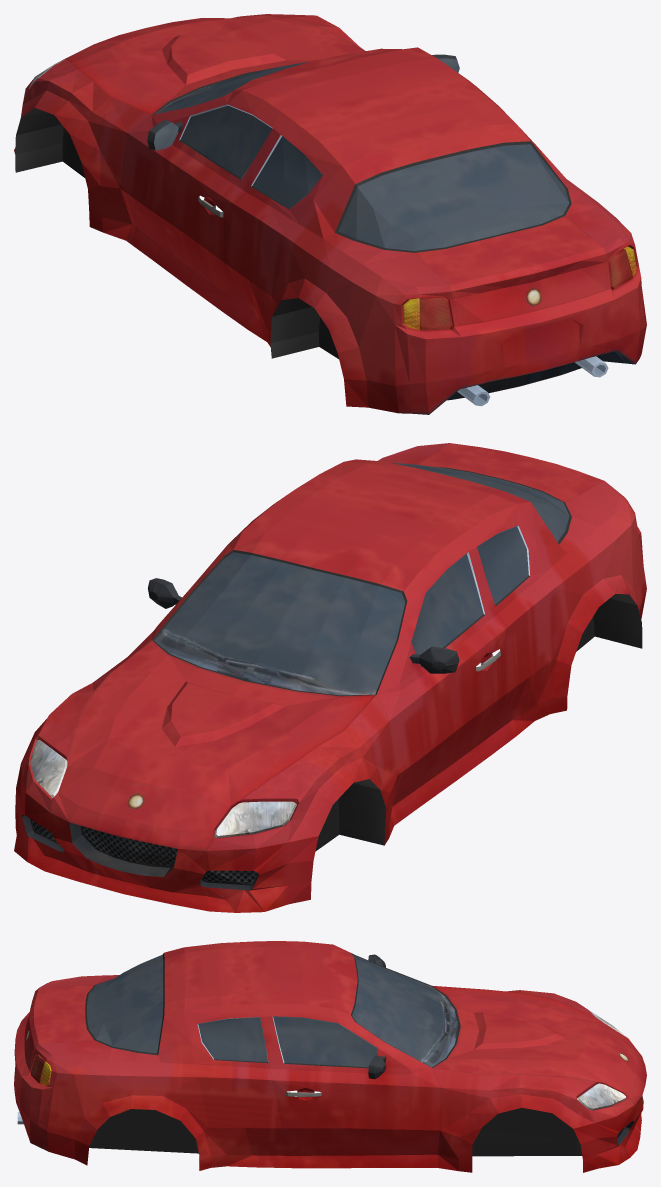
The model's file is car.obj.
The picture shows the model from 3 angles, top to bottom: view 1: azimuth 30°, elevation 25°; view 2: azimuth 150°, elevation 25°; view 3: azimuth 270°, elevation 25°; orthographic projection. The views are drawn at different scales.
Visible parts, largest first — view 1: Object_car_tex.jpg; view 2: Object_car_tex.jpg; view 3: Object_car_tex.jpg.
Part boxes in pixels (x1,y1,x2,y2): Object_car_tex.jpg: (14,14,646,414); Object_car_tex.jpg: (14,443,646,912); Object_car_tex.jpg: (14,941,646,1172).
Size of the model in its own units: 1.06 by 0.6541 by 2.5.
